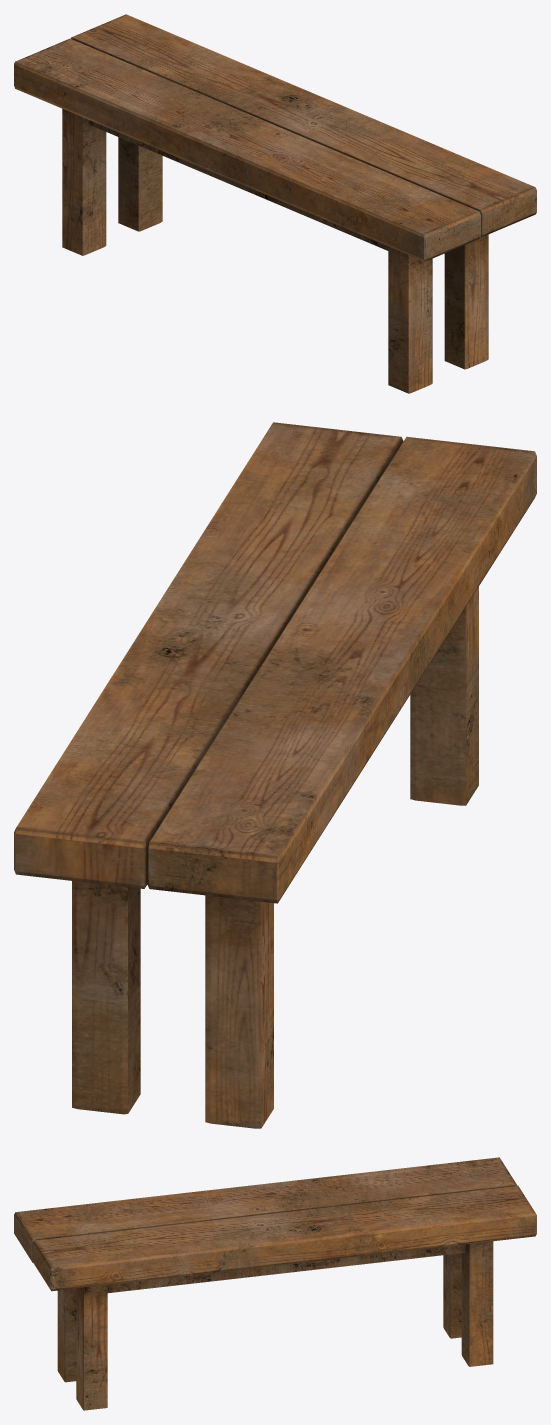
Rendered from Bench_With_Texture.fbx.
3 renders of one model, top to bottom at view 1: azimuth 30°, elevation 25°; view 2: azimuth 150°, elevation 25°; view 3: azimuth 270°, elevation 25°, orthographic. The views are drawn at different scales.
Parts seen in each view (by area): view 1: Bench; view 2: Bench; view 3: Bench.
Boxes of the visible parts, <box> form: Bench: <box>14,14,536,393</box>; Bench: <box>14,422,536,1128</box>; Bench: <box>14,1157,536,1410</box>.
Size of the model in its own units: 7.31 by 4.75 by 14.52.
1 material, 1 textured.
